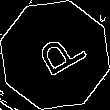P_SW: (24, 26, 86, 84)
